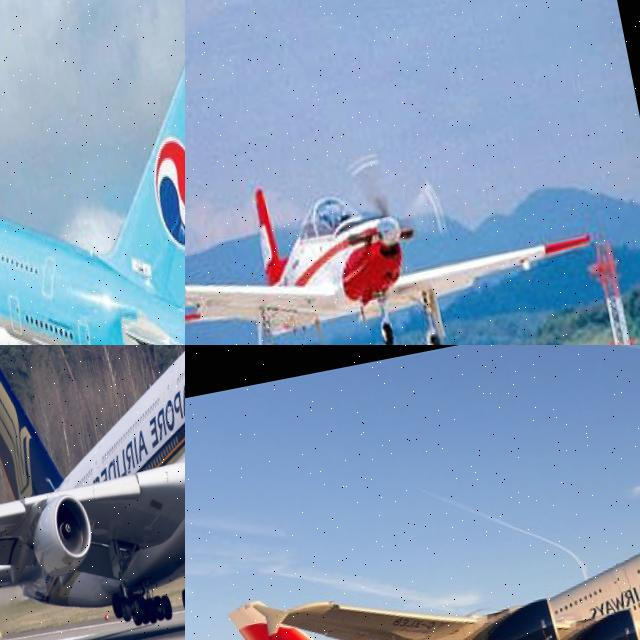A380: (185, 495, 640, 640), (0, 31, 185, 345), (0, 345, 185, 640)
KT-1: (185, 124, 614, 345)
